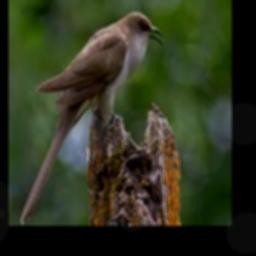Cuckoo: (20, 11, 163, 223)
